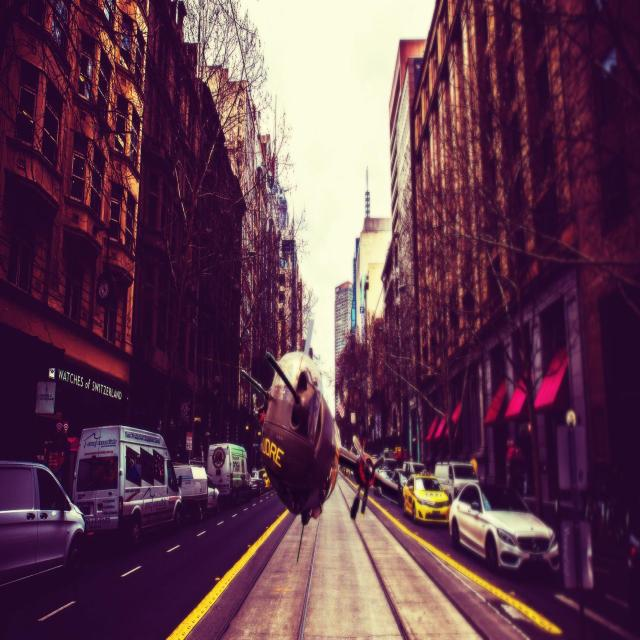airplane: (240, 318, 382, 526)
